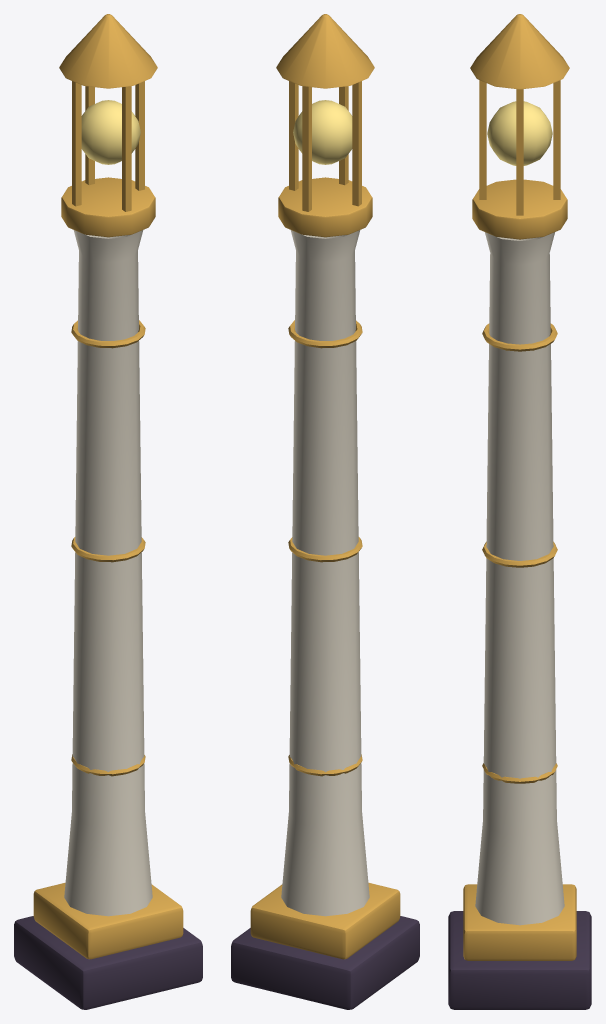
The model's file is LandBeacon.fbx.
The picture shows the model from 3 angles, left to right: view 1: azimuth 30°, elevation 25°; view 2: azimuth 150°, elevation 25°; view 3: azimuth 270°, elevation 25°; orthographic projection.
Parts seen in each view (by area): view 1: LandBeacon; view 2: LandBeacon; view 3: LandBeacon.
Boxes of the visible parts, box(x1,y1,x2,y2) form: LandBeacon: box(14, 14, 202, 1009); LandBeacon: box(231, 14, 419, 1009); LandBeacon: box(448, 14, 591, 1009).
Bounding box in the file's own units: 240 × 1790 × 240.
